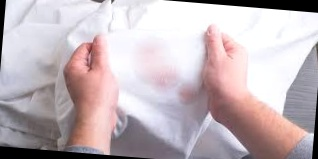wine: (124, 37, 182, 94), (169, 82, 202, 108)
